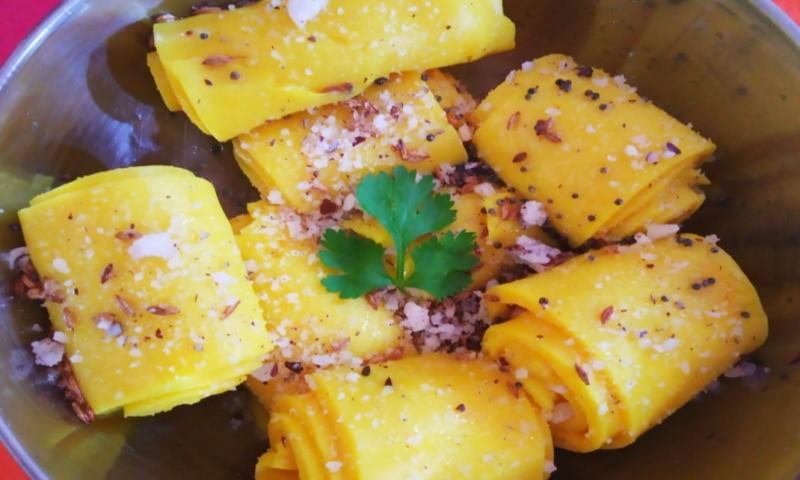khandvi: (9, 0, 774, 480)
